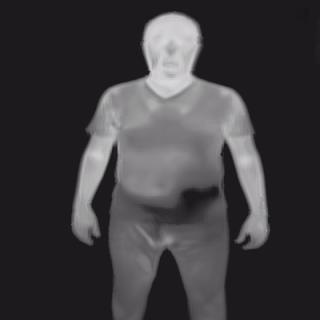Gun: (182, 184, 221, 220)
